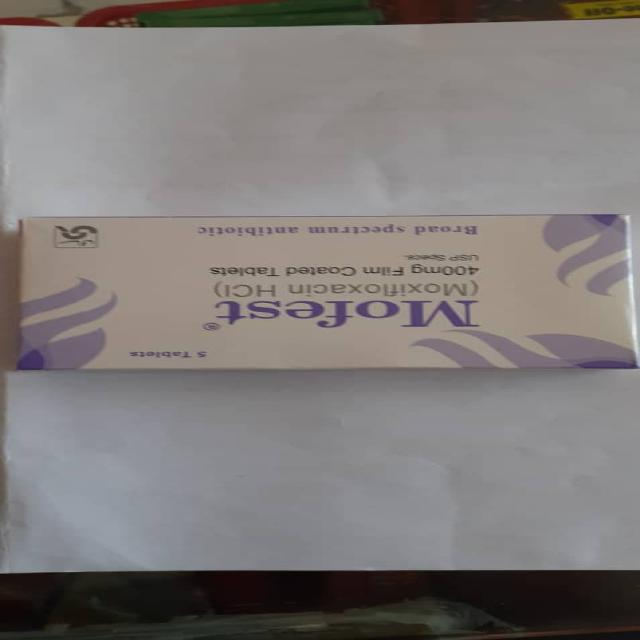drug-name: (218, 300, 487, 330)
